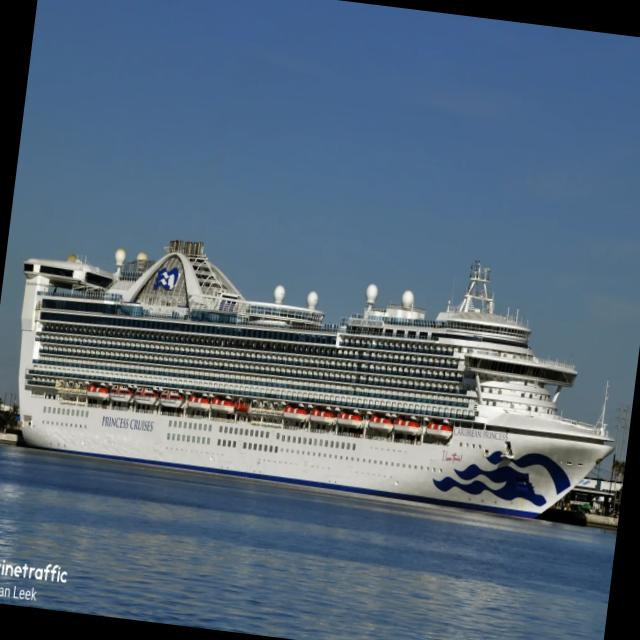Cruise: (18, 240, 614, 516)
